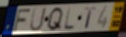4: (96, 4, 109, 30)
F: (12, 8, 32, 33)
L: (63, 7, 76, 31)
Q: (46, 6, 64, 32)
T: (84, 6, 97, 30)
U: (29, 7, 47, 33)
